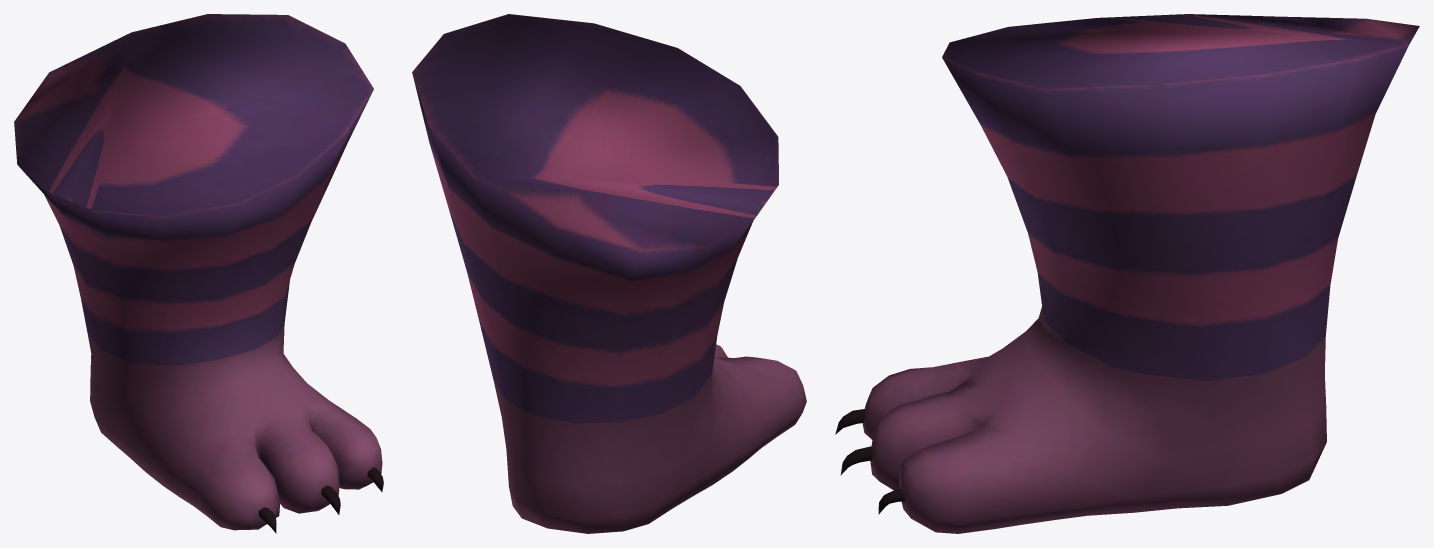
Rendered from left_leg.obj.
3 renders of one model, left to right at view 1: azimuth 30°, elevation 25°; view 2: azimuth 150°, elevation 25°; view 3: azimuth 270°, elevation 25°, orthographic. The views are drawn at different scales.
Visible parts, largest first — view 1: Bip001 Pelvis, Bip001 L Foot, Bip001 L Calf, Bip001 L Thigh, Bip001 L Toe11, Bip001 L Toe21, Bip001 L Toe01, Bip001 L Toe2, Bip001 L Toe1, Bip001 L Toe0; view 2: Bip001 Pelvis, Bip001 L Foot, Bip001 L Calf, Bip001 L Thigh, Bip001 L Toe2; view 3: Bip001 L Foot, Bip001 L Thigh, Bip001 L Calf, Bip001 Pelvis, Bip001 L Toe0, Bip001 L Toe01, Bip001 L Toe11, Bip001 L Toe21, Bip001 L Toe1, Bip001 L Toe2.
Boxes of the visible parts, x1=… form: Bip001 Pelvis: x1=14, y1=14, x2=373, y2=216; Bip001 L Foot: x1=87, y1=324, x2=342, y2=505; Bip001 L Calf: x1=60, y1=193, x2=324, y2=366; Bip001 L Thigh: x1=18, y1=90, x2=373, y2=269; Bip001 L Toe11: x1=274, y1=444, x2=340, y2=514; Bip001 L Toe21: x1=212, y1=467, x2=279, y2=533; Bip001 L Toe01: x1=330, y1=427, x2=383, y2=492; Bip001 L Toe2: x1=187, y1=457, x2=273, y2=526; Bip001 L Toe1: x1=264, y1=430, x2=325, y2=506; Bip001 L Toe0: x1=311, y1=409, x2=369, y2=450; Bip001 Pelvis: x1=412, y1=14, x2=778, y2=250; Bip001 L Foot: x1=494, y1=356, x2=788, y2=533; Bip001 L Calf: x1=449, y1=210, x2=737, y2=423; Bip001 L Thigh: x1=413, y1=76, x2=773, y2=314; Bip001 L Toe2: x1=737, y1=356, x2=802, y2=447; Bip001 L Foot: x1=929, y1=306, x2=1326, y2=524; Bip001 L Thigh: x1=942, y1=45, x2=1408, y2=214; Bip001 L Calf: x1=1007, y1=177, x2=1355, y2=381; Bip001 Pelvis: x1=942, y1=14, x2=1419, y2=89; Bip001 L Toe0: x1=941, y1=427, x2=1026, y2=533; Bip001 L Toe01: x1=878, y1=442, x2=961, y2=533; Bip001 L Toe11: x1=840, y1=401, x2=923, y2=490; Bip001 L Toe21: x1=835, y1=369, x2=909, y2=439; Bip001 L Toe1: x1=916, y1=391, x2=958, y2=447; Bip001 L Toe2: x1=907, y1=367, x2=941, y2=402.
Size of the model in its own units: 0.2344 by 0.2909 by 0.3109.
